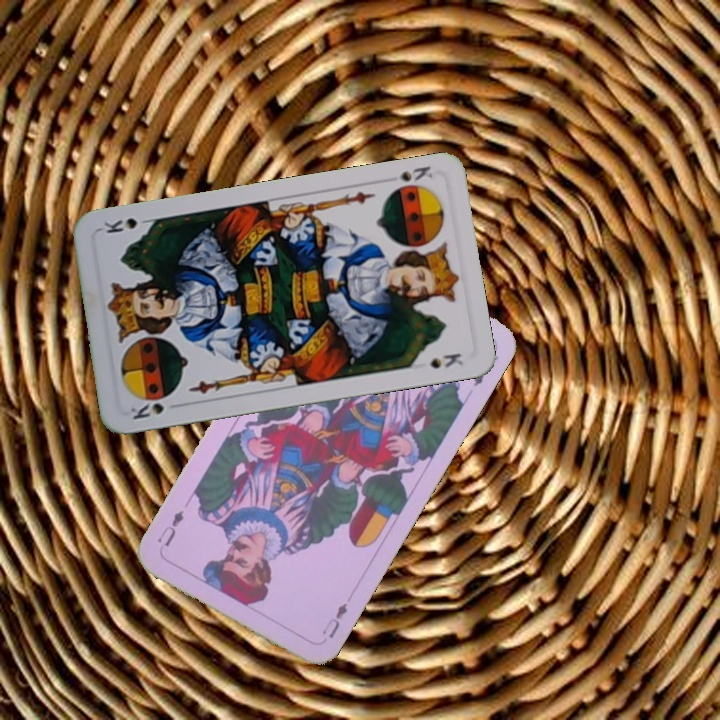EU: (318, 599, 350, 641)
SK: (126, 392, 173, 422), (395, 161, 435, 184)
